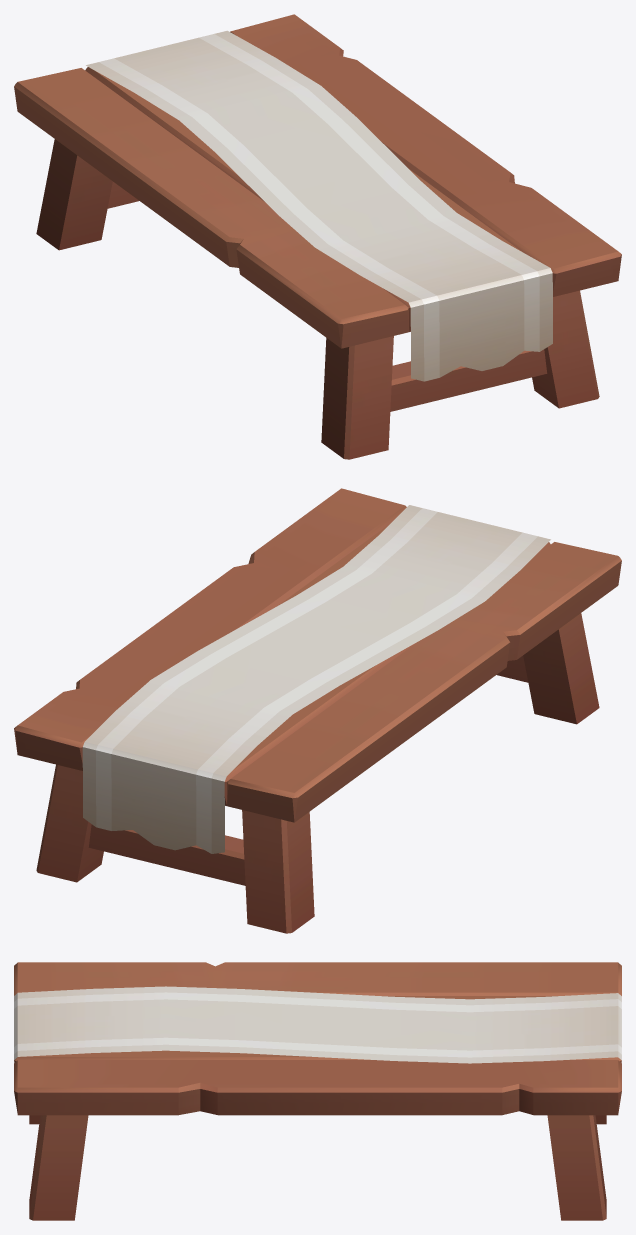
Rendered from table-long-tablecloth-gltf.glb.
3 views of the same model, one above another, from view 1: azimuth 30°, elevation 25°; view 2: azimuth 150°, elevation 25°; view 3: azimuth 270°, elevation 25° (orthographic). The views are drawn at different scales.
Parts seen in each view (by area): view 1: table_long_tablecloth; view 2: table_long_tablecloth; view 3: table_long_tablecloth.
Part boxes in pixels (box(x1,y1,x2,y2)): table_long_tablecloth: box(14, 14, 621, 459); table_long_tablecloth: box(14, 488, 621, 933); table_long_tablecloth: box(14, 962, 621, 1220).
Bounding box in the file's own units: 2 × 1 × 4.
Materials: 1 (1 with a texture image).
